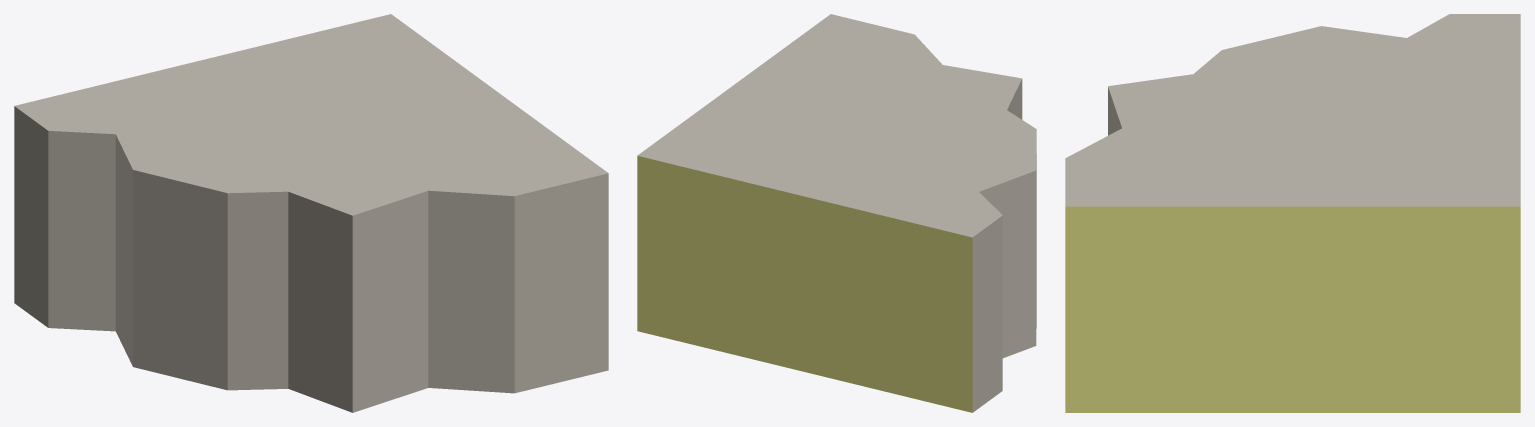
Rendered from Cracked_Curve_Outer_3x3_1_Mid.glb.
3 views of the same model, side by side, from view 1: azimuth 30°, elevation 25°; view 2: azimuth 150°, elevation 25°; view 3: azimuth 270°, elevation 25° (orthographic). The views are drawn at different scales.
Parts seen in each view (by area): view 1: Cracked_Curve_Outer_3x3_1_Mid; view 2: Cracked_Curve_Outer_3x3_1_Mid; view 3: Cracked_Curve_Outer_3x3_1_Mid.
Part boxes in pixels (x1=…): Cracked_Curve_Outer_3x3_1_Mid: x1=14, y1=14, x2=608, y2=412; Cracked_Curve_Outer_3x3_1_Mid: x1=637, y1=14, x2=1036, y2=412; Cracked_Curve_Outer_3x3_1_Mid: x1=1065, y1=14, x2=1520, y2=412.
Bounding box in the file's own units: 200 × 100 × 200.
